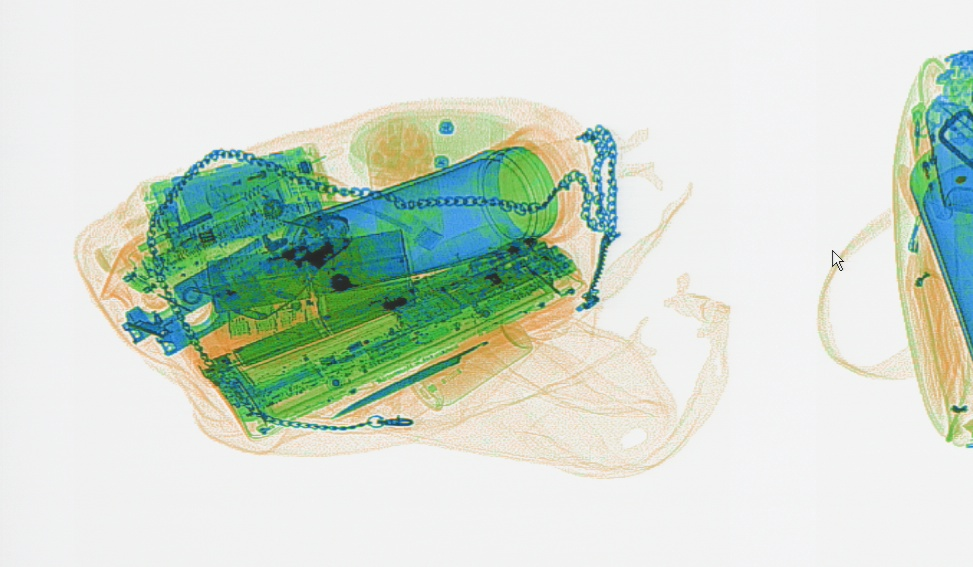knife: (328, 296, 577, 420)
powerbank: (202, 223, 425, 349)
pressure: (386, 313, 535, 420)
